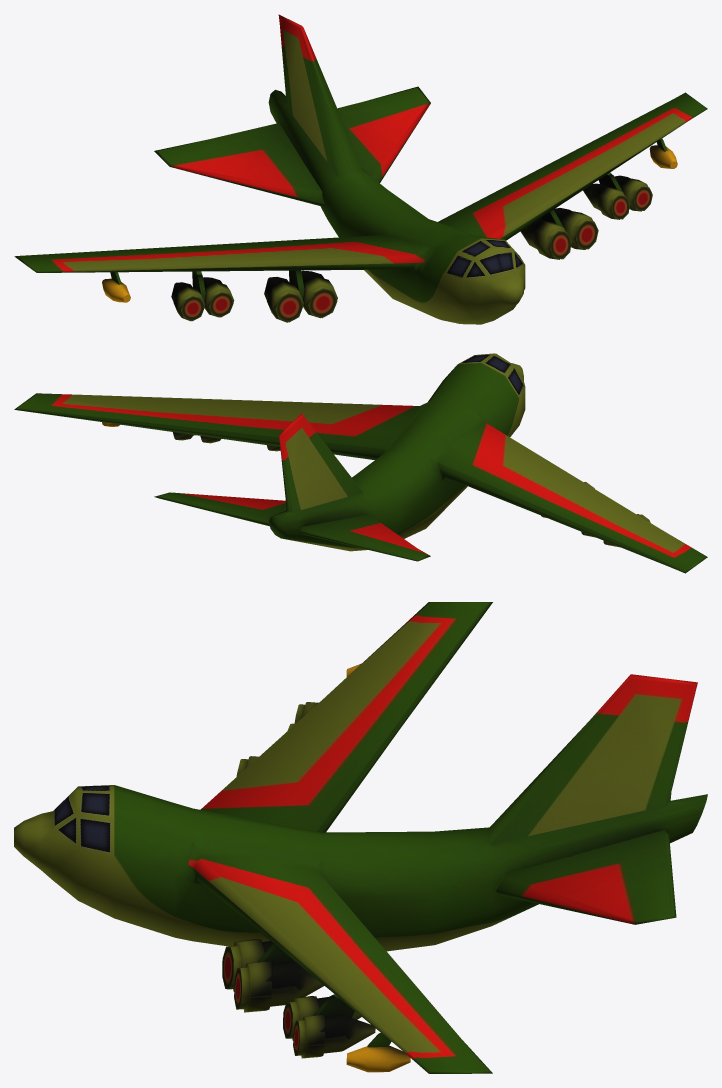
3 views of the same model, one above another, from view 1: azimuth 30°, elevation 25°; view 2: azimuth 150°, elevation 25°; view 3: azimuth 270°, elevation 25° (orthographic). The views are drawn at different scales.
Visible parts, largest first — view 1: Catoon_B52; view 2: Catoon_B52; view 3: Catoon_B52.
Boxes of the visible parts, bbox=[...] form: Catoon_B52: bbox=[14, 14, 707, 324]; Catoon_B52: bbox=[14, 353, 707, 573]; Catoon_B52: bbox=[14, 602, 707, 1073].
Size of the model in its own units: 167 by 46.76 by 104.
Materials: 1 (1 with a texture image).
